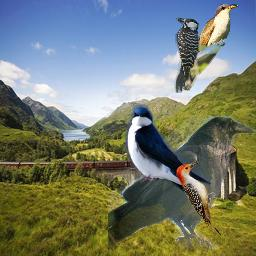Crow: (108, 115, 256, 250)
Cuckoo: (180, 2, 239, 92)
Swallow: (125, 105, 211, 199)
Woodpecker: (176, 160, 222, 237), (174, 16, 201, 93)
